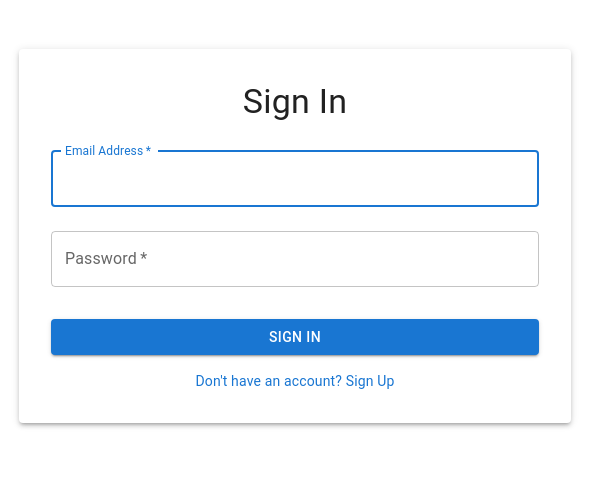
Scenario: LoginPage › should handle login error
The width and height of the screenshot is (591, 477).
Type "test@example.com" into the field labelled "Email Address". click: (295, 179)
box: [51, 151, 539, 207]
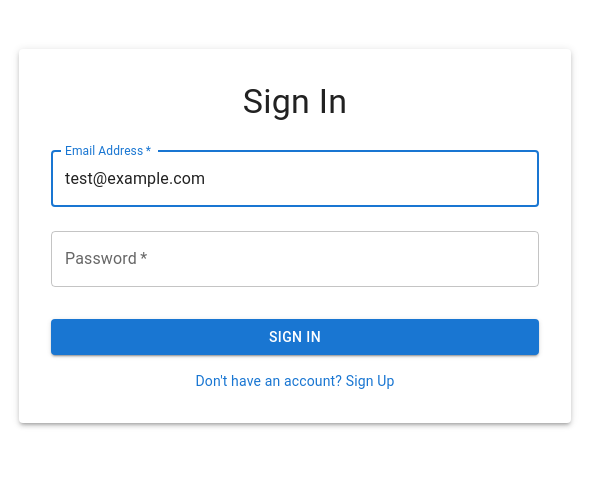
Type "wrongpassword" into the password field labelled "Password *". click: (295, 259)
box: [51, 231, 539, 287]
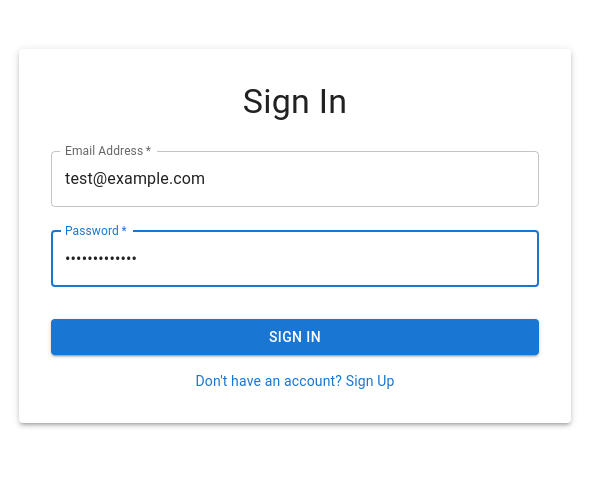
Click the button "Sign In". click: (295, 337)
box: [51, 319, 539, 355]
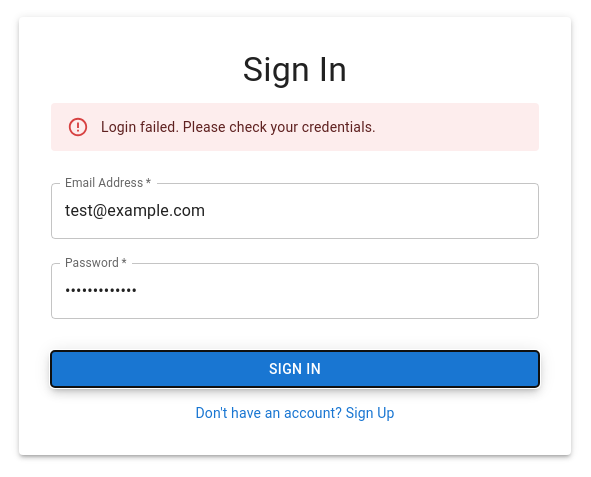
Now the text "Login failed. Please check your credentials." is shown, box [101, 119, 376, 135]
